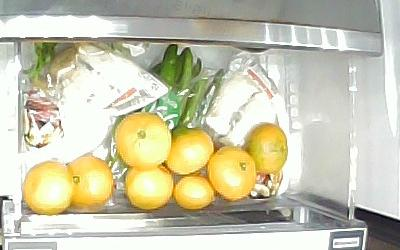tangerine: (115, 110, 171, 171), (24, 160, 73, 216), (208, 146, 257, 202), (68, 154, 113, 210), (125, 165, 174, 212), (168, 127, 214, 177), (246, 121, 287, 177), (174, 175, 216, 212)
